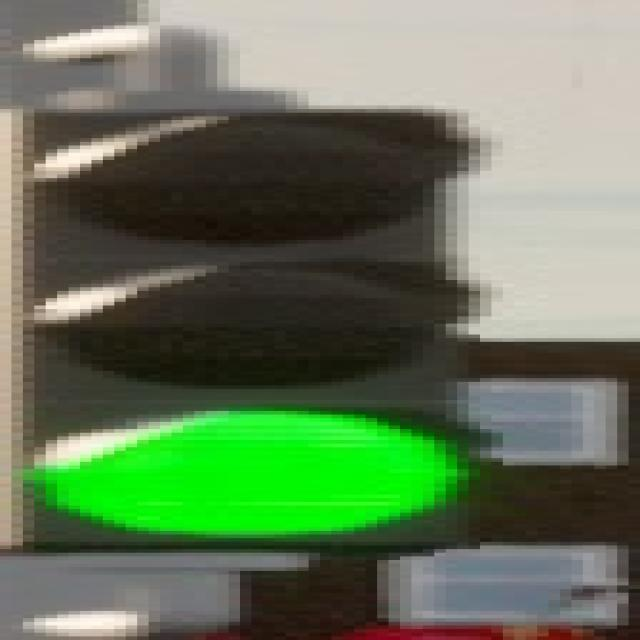green_light: (0, 102, 514, 553)
